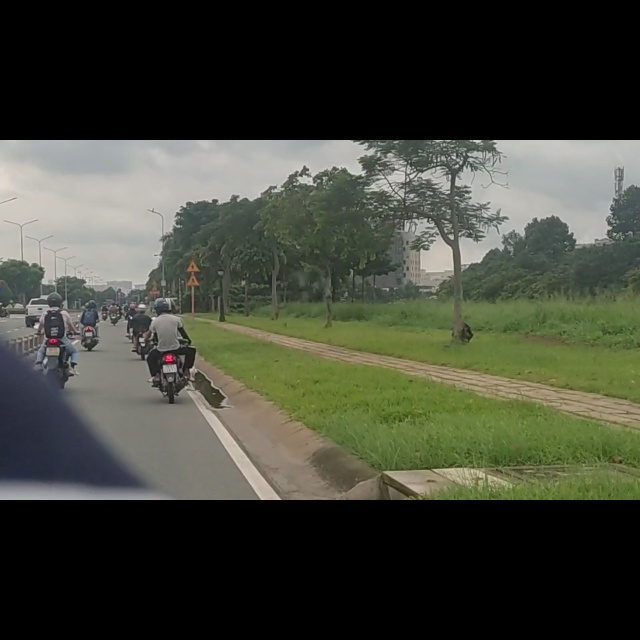bien_nguy_hiem: (185, 213, 201, 235), (185, 239, 201, 260)
